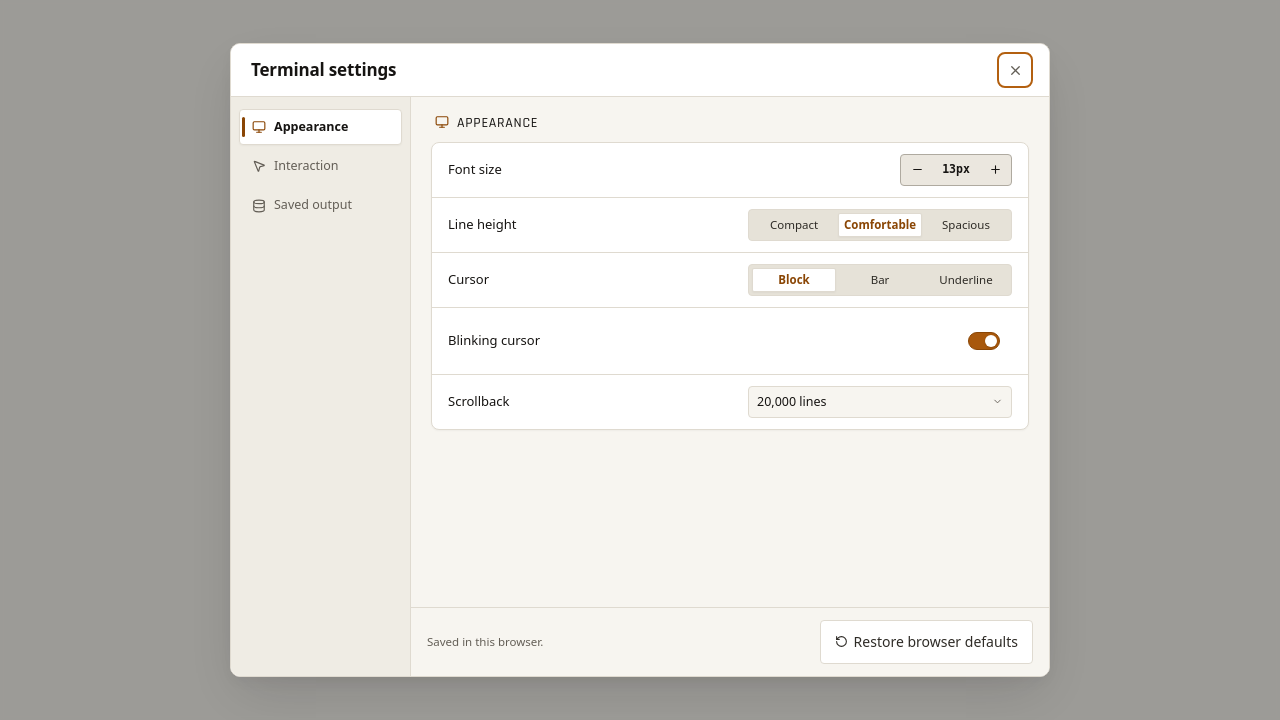
Terminal settings categories › offers an explicit Mac opt-in, persists it, and restores native Option defaults
Click the button "Interaction".
click(320, 166)  # box [239,148,402,184]
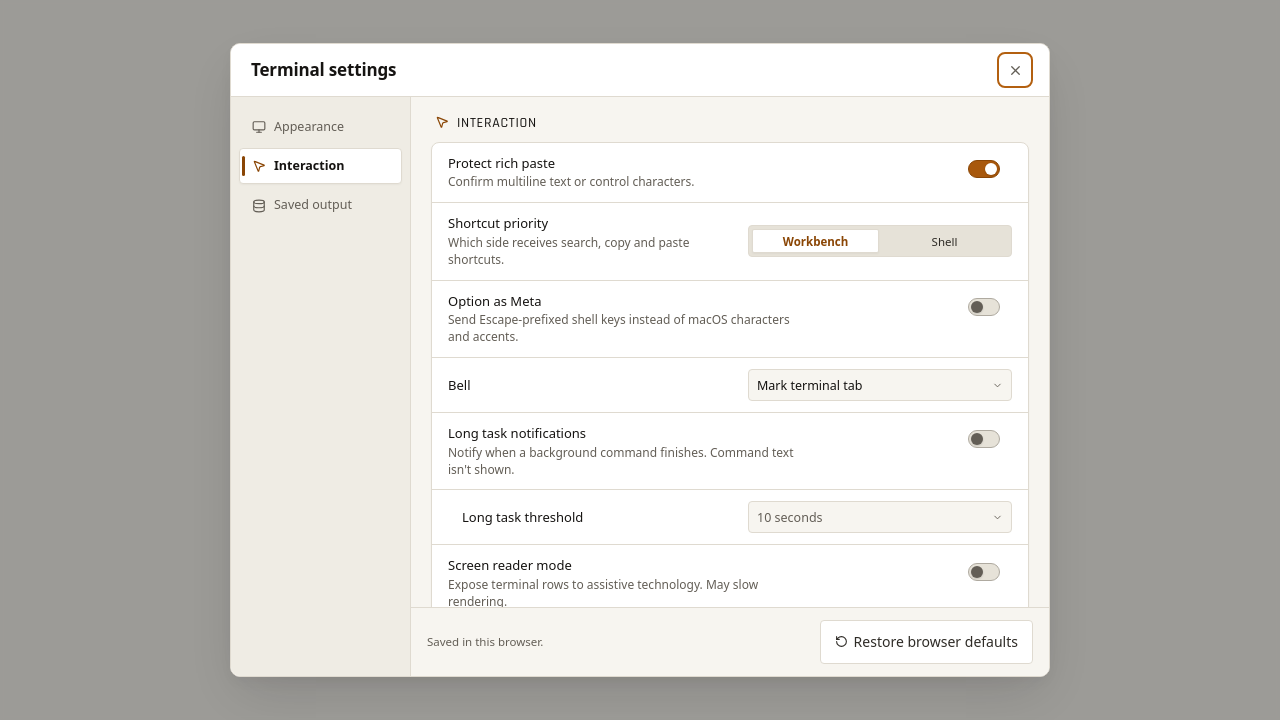
Check: the switch named "Use Option as Meta" is not checked
Click the switch named "Use Option as Meta".
click(984, 307)  # box [968,298,1000,316]
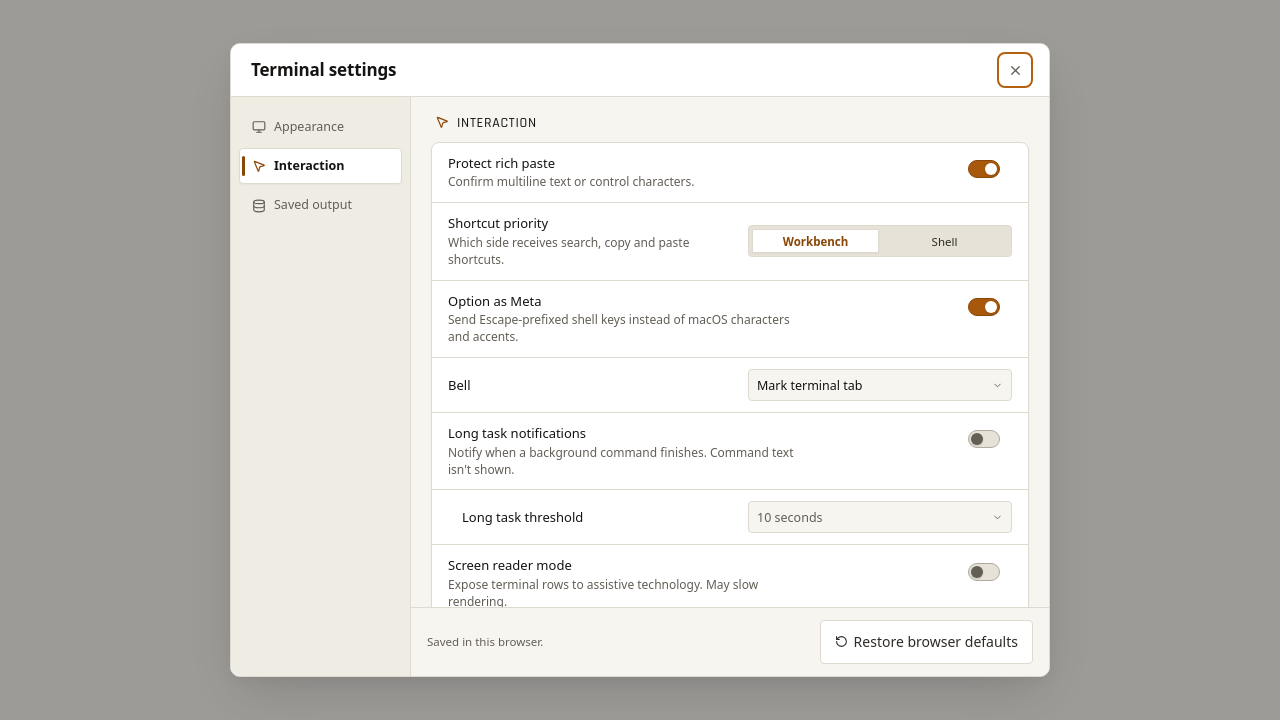
Check: the switch named "Use Option as Meta" is checked, box [968,298,1000,316]
Click the button "Appearance".
click(320, 127)  # box [239,109,402,145]
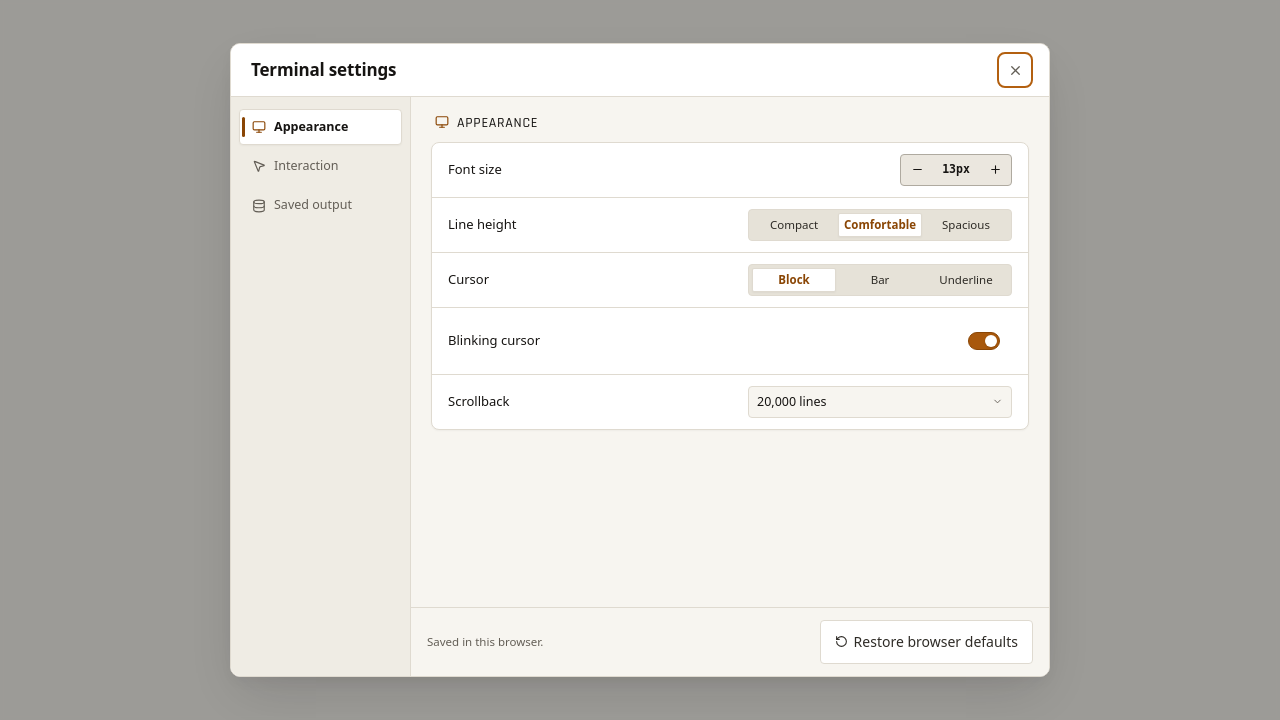
Click the button "Interaction".
click(320, 166)  # box [239,148,402,184]
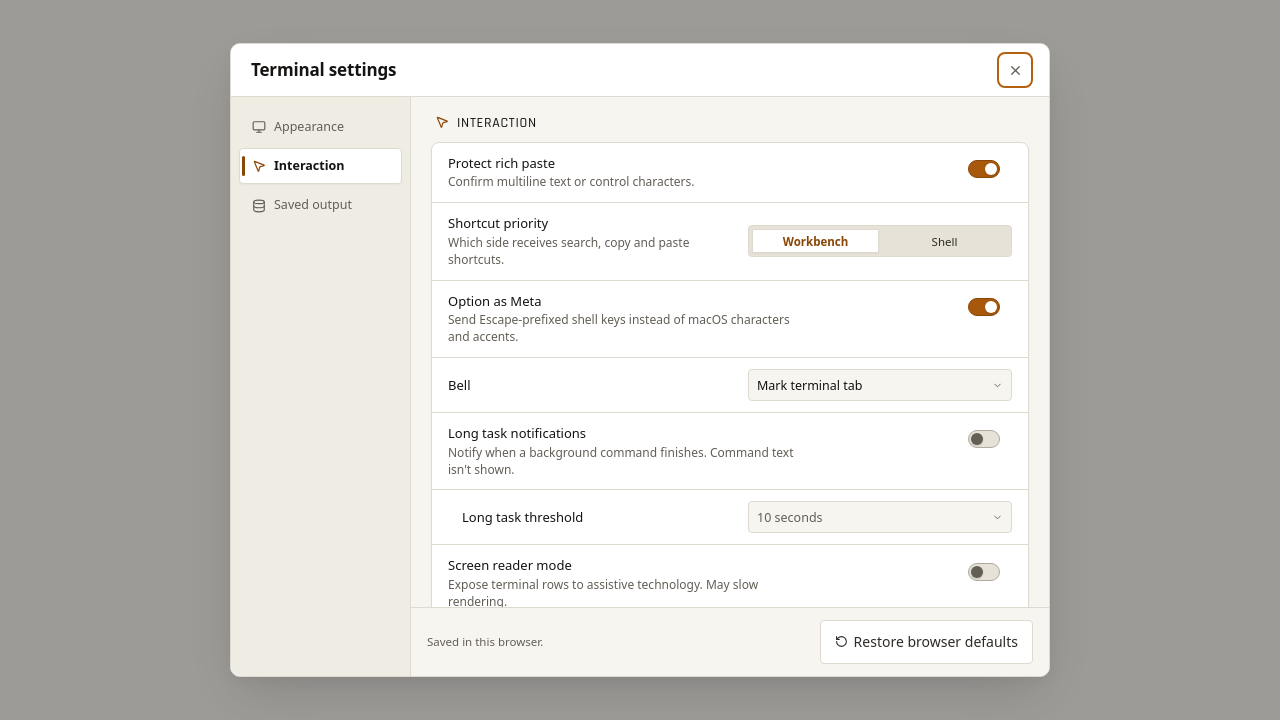
Check: the switch named "Use Option as Meta" is checked, box [968,298,1000,316]
Click the button "Restore browser defaults".
click(926, 642)  # box [820,620,1033,664]
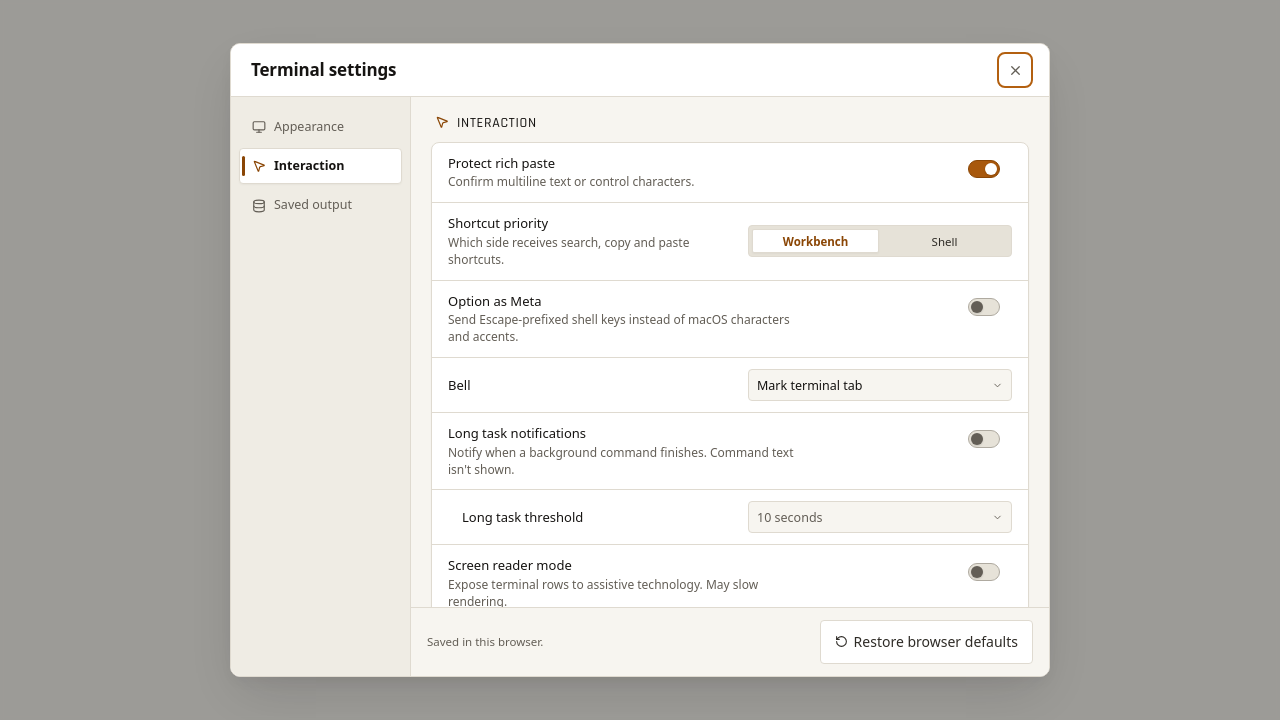
Check: the switch named "Use Option as Meta" is not checked, box [968,298,1000,316]
